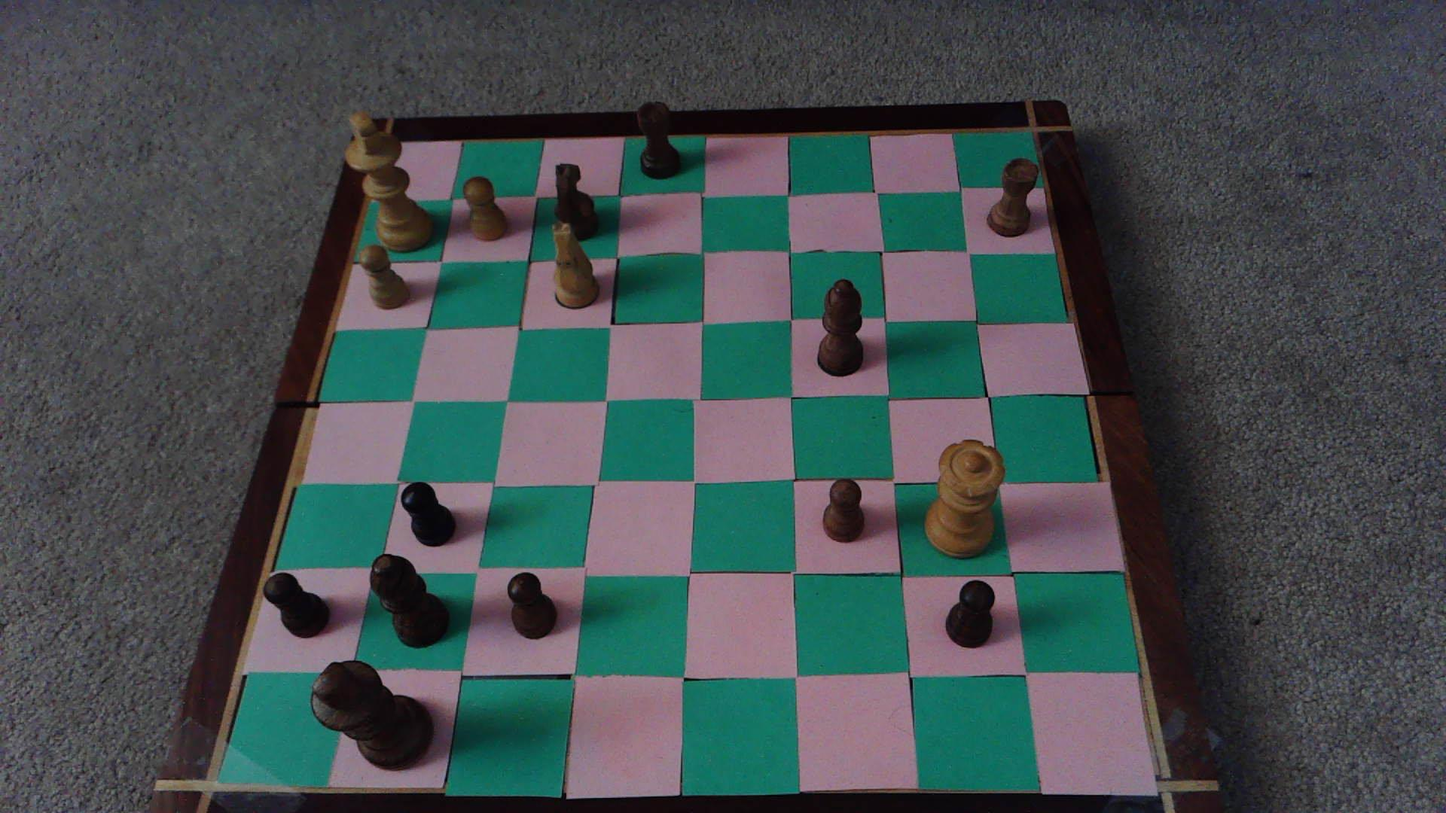dark_piece: (311, 660, 432, 769), (371, 554, 447, 647), (818, 279, 862, 375), (264, 574, 328, 637), (988, 158, 1038, 236), (401, 482, 454, 546), (946, 580, 994, 647), (508, 573, 556, 638), (639, 102, 679, 178), (822, 479, 864, 541)
white_piece: (345, 112, 432, 251), (924, 440, 1004, 557), (552, 224, 600, 308), (554, 162, 597, 240), (359, 245, 408, 309), (461, 175, 507, 241)
